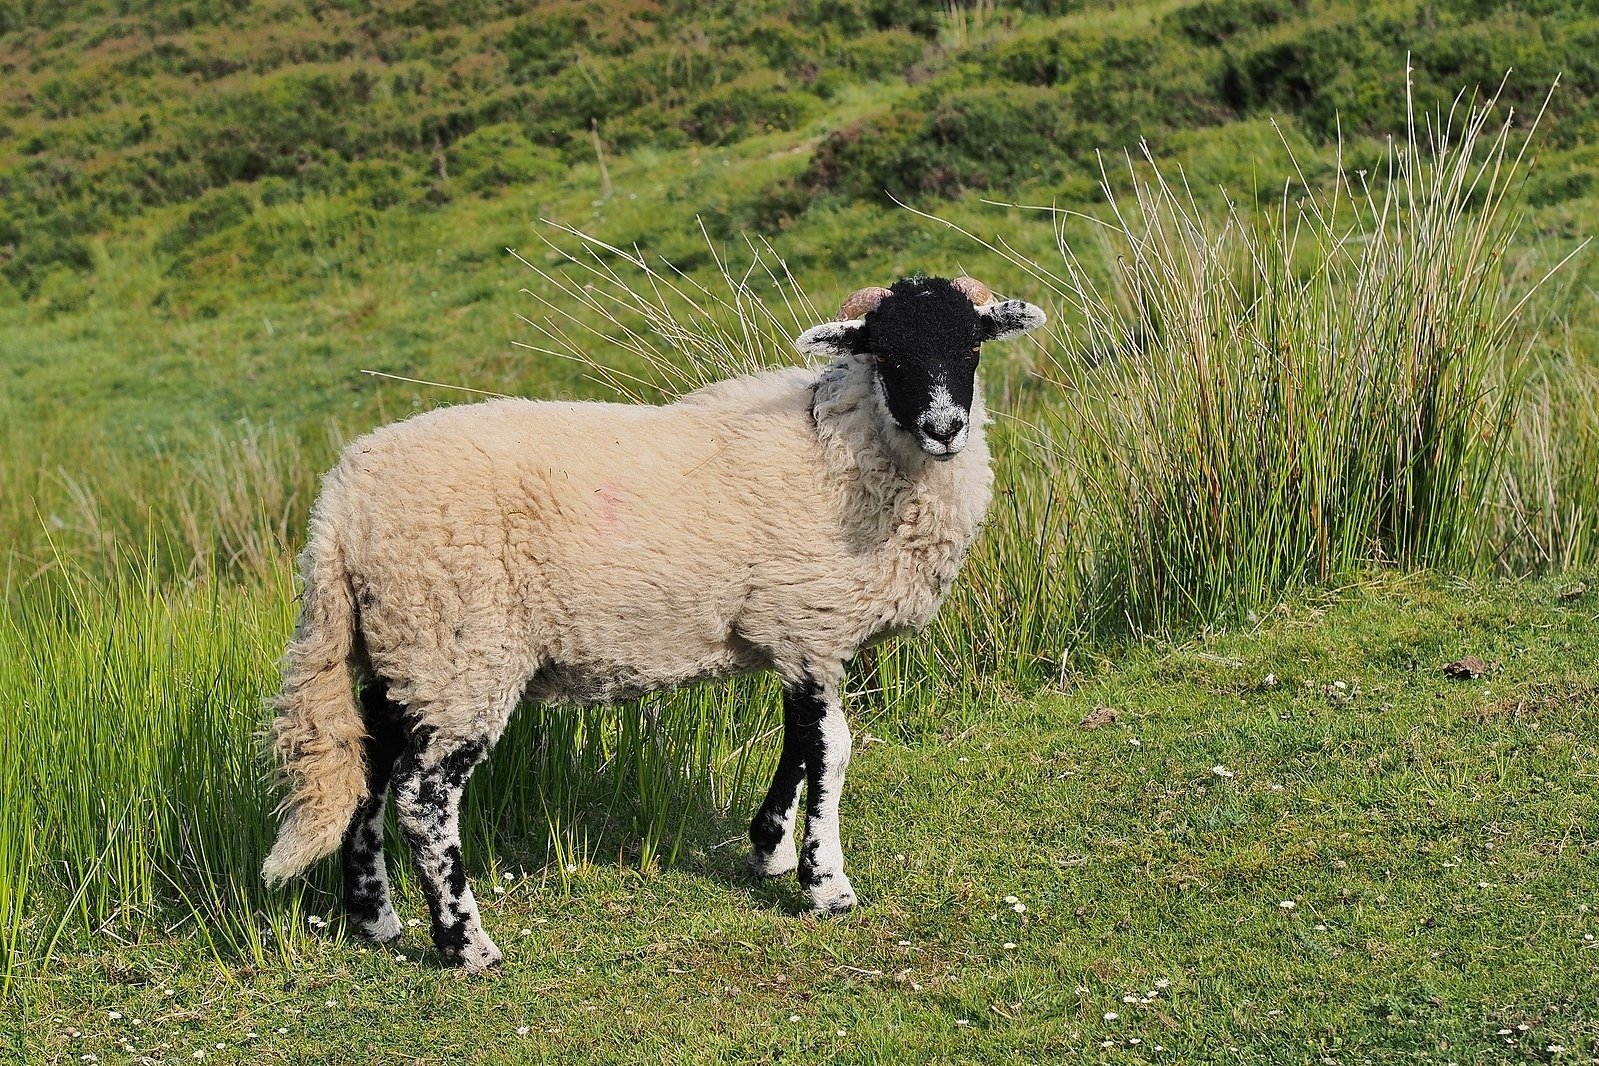standing: (256, 272, 1049, 961)
